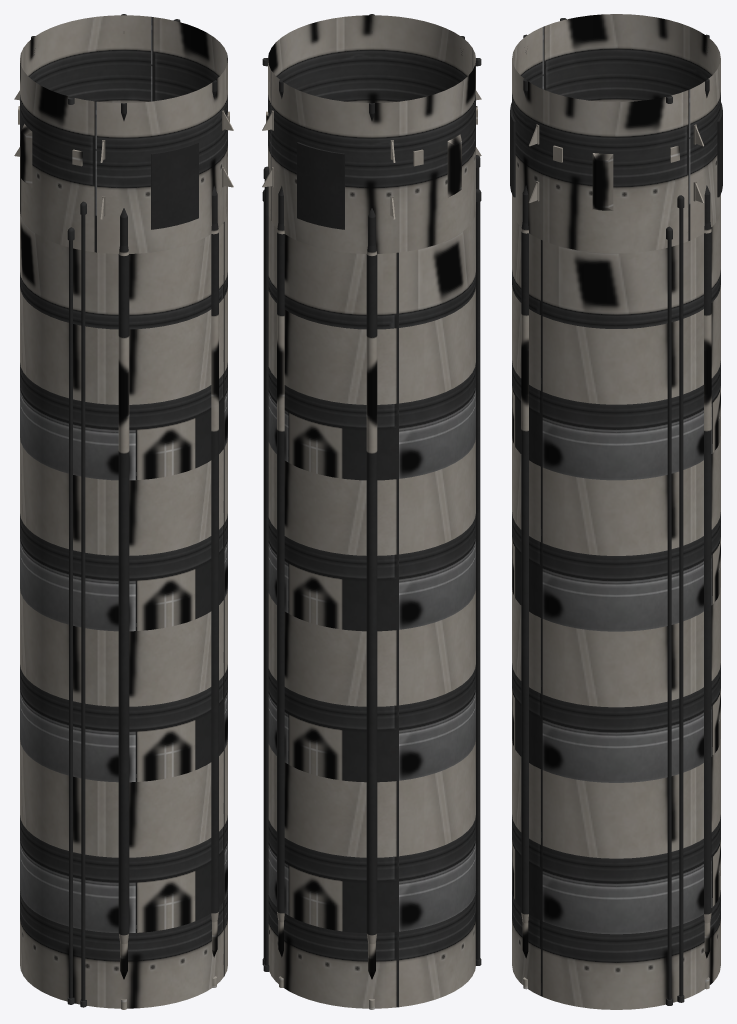
File: rotanev_lv_fuel_tank_s4_4.obj
3 renders of one model, left to right at view 1: azimuth 30°, elevation 25°; view 2: azimuth 150°, elevation 25°; view 3: azimuth 270°, elevation 25°, orthographic.
Parts seen in each view (by area): view 1: 1; view 2: 1; view 3: 1.
Part boxes in pixels (x1,y1,x2,y2): 1: (14, 14, 233, 1009); 1: (262, 14, 481, 1009); 1: (510, 14, 722, 1009).
Size of the model in its own units: 5.22 by 24 by 5.1.
